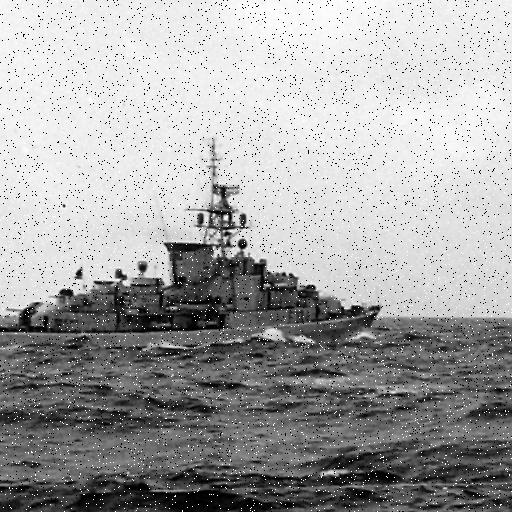Fragata: (1, 114, 386, 358)
